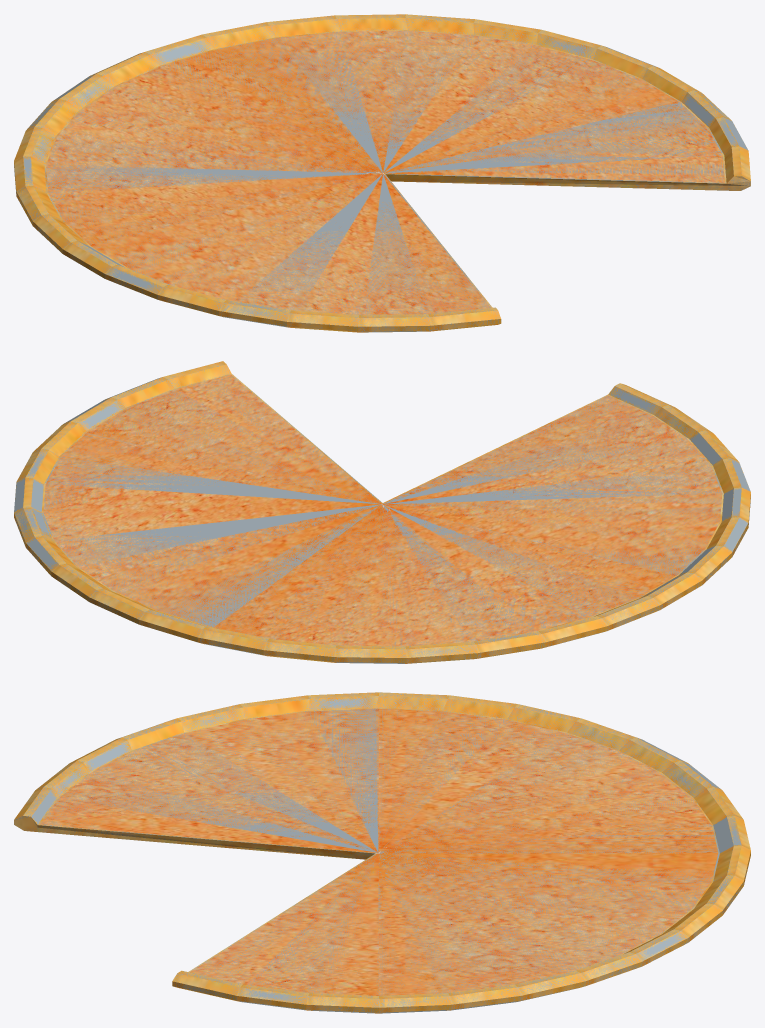
Rendered from pizza.dae.
3 renders of one model, top to bottom at view 1: azimuth 30°, elevation 25°; view 2: azimuth 150°, elevation 25°; view 3: azimuth 270°, elevation 25°, orthographic.
Parts seen in each view (by area): view 1: skp90F0 (×2); view 2: skp90F0 (×2); view 3: skp90F0 (×2).
Part boxes in pixels (x1,y1,x2,y2): skp90F0 (×2): (14, 14, 750, 332); skp90F0 (×2): (14, 361, 750, 663); skp90F0 (×2): (14, 692, 750, 1013).
Size of the model in its own units: 9.23 by 9.14 by 0.2065.
4 materials, 2 textured.
